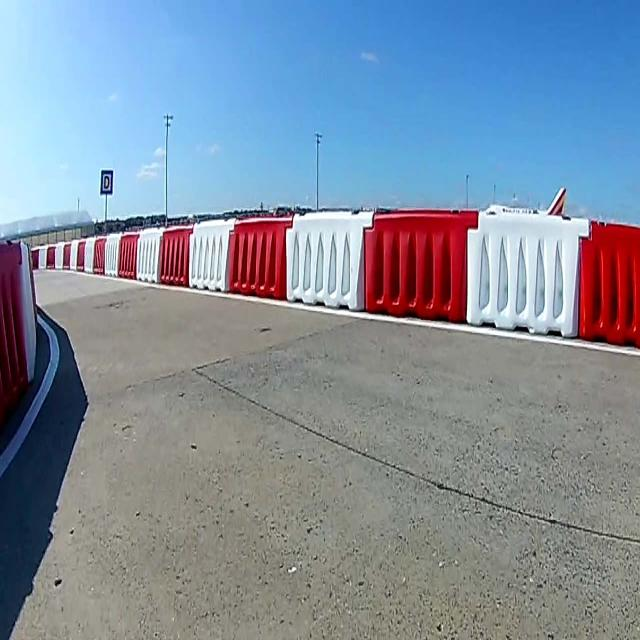durak: (100, 170, 112, 194)
